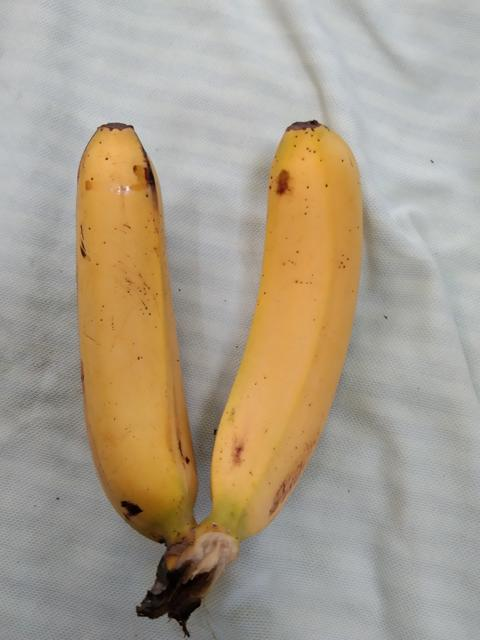ripe: (194, 108, 375, 535), (59, 112, 214, 541)
